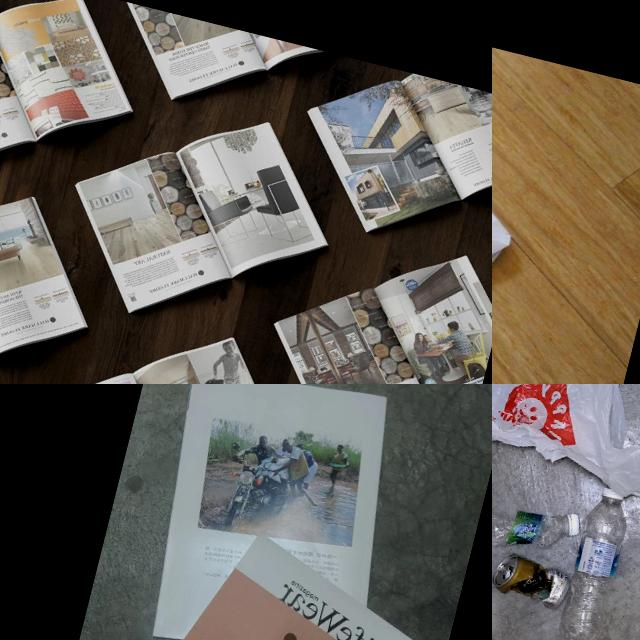aba de lata: (496, 562, 509, 576)
garrafa plástica: (555, 492, 633, 640), (492, 488, 570, 568)
lata: (492, 549, 572, 612)
papel: (25, 384, 492, 640), (46, 77, 354, 357), (277, 50, 492, 272), (242, 213, 492, 384), (0, 0, 157, 217), (103, 2, 327, 136), (0, 157, 113, 384), (39, 294, 318, 384), (492, 17, 545, 384)
sacola plástica: (492, 384, 640, 504)
tampa plástica: (560, 512, 582, 538), (601, 486, 624, 501)
